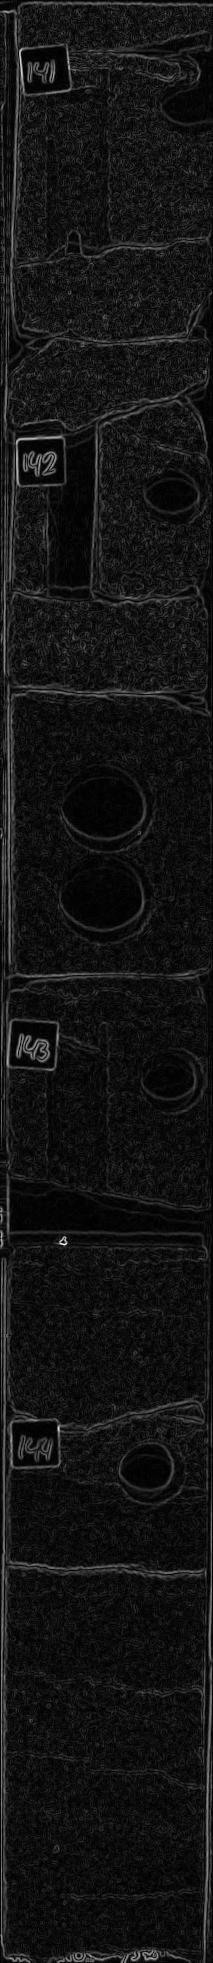hplug: (106, 1435, 190, 1514), (132, 1042, 213, 1118), (132, 453, 209, 530), (150, 70, 213, 136)
scal: (48, 749, 162, 853), (48, 849, 162, 949)
vplug: (35, 73, 122, 265), (38, 1022, 122, 1201), (35, 421, 112, 613)
